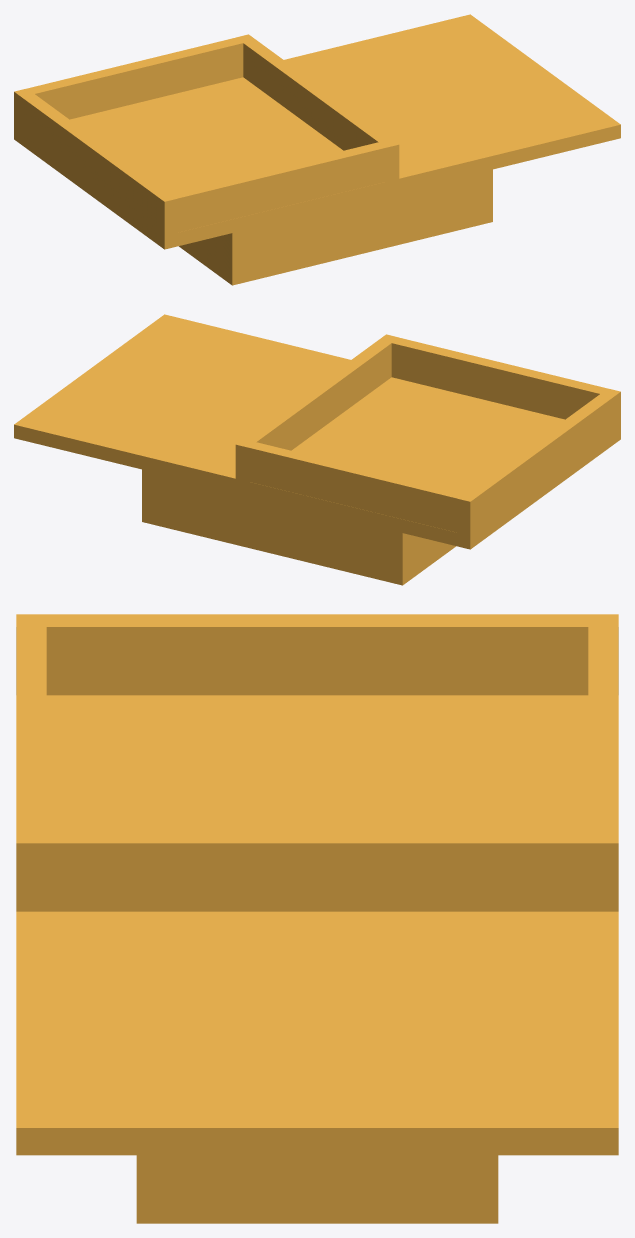
The picture shows the model from 3 angles, top to bottom: view 1: azimuth 30°, elevation 25°; view 2: azimuth 150°, elevation 25°; view 3: azimuth 270°, elevation 25°; orthographic projection. The views are drawn at different scales.
Parts seen in each view (by area): view 1: tmp_export_Cube.021; view 2: tmp_export_Cube.021; view 3: tmp_export_Cube.021.
Boxes of the visible parts, <box> form: tmp_export_Cube.021: <box>14,14,620,285</box>; tmp_export_Cube.021: <box>14,314,620,585</box>; tmp_export_Cube.021: <box>16,614,618,1223</box>.
Bounding box in the file's own units: 3.5 × 2 × 0.95.
